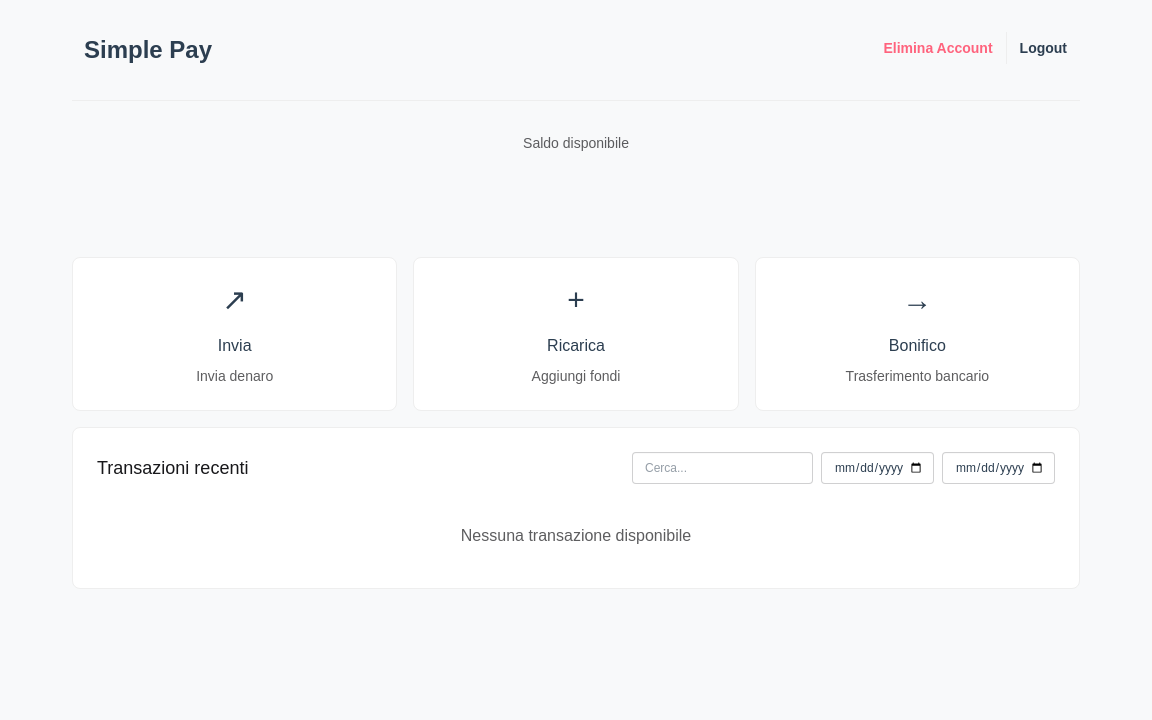
Transfer Modal › should validate IBAN length
Click the text "Trasferimento bancario".
click(918, 376)  # box x1=846 y1=368 x2=989 y2=384
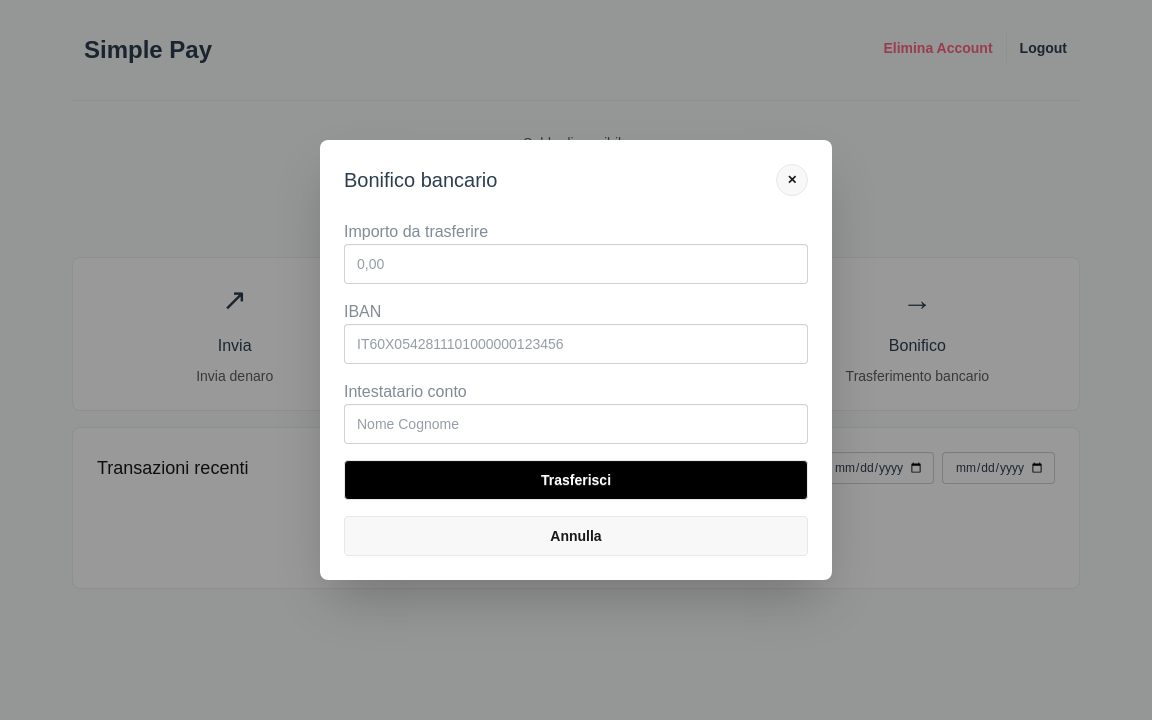
Check: the dialog with id "transferModal" is shown
Type "IT60X0542811101000000111111TOOLONGFORIBAN" into the field with id "transferIban".
click(576, 344); type("IT60X0542811101000000111111TOOLONGFORIBAN")  # box x1=344 y1=324 x2=808 y2=364
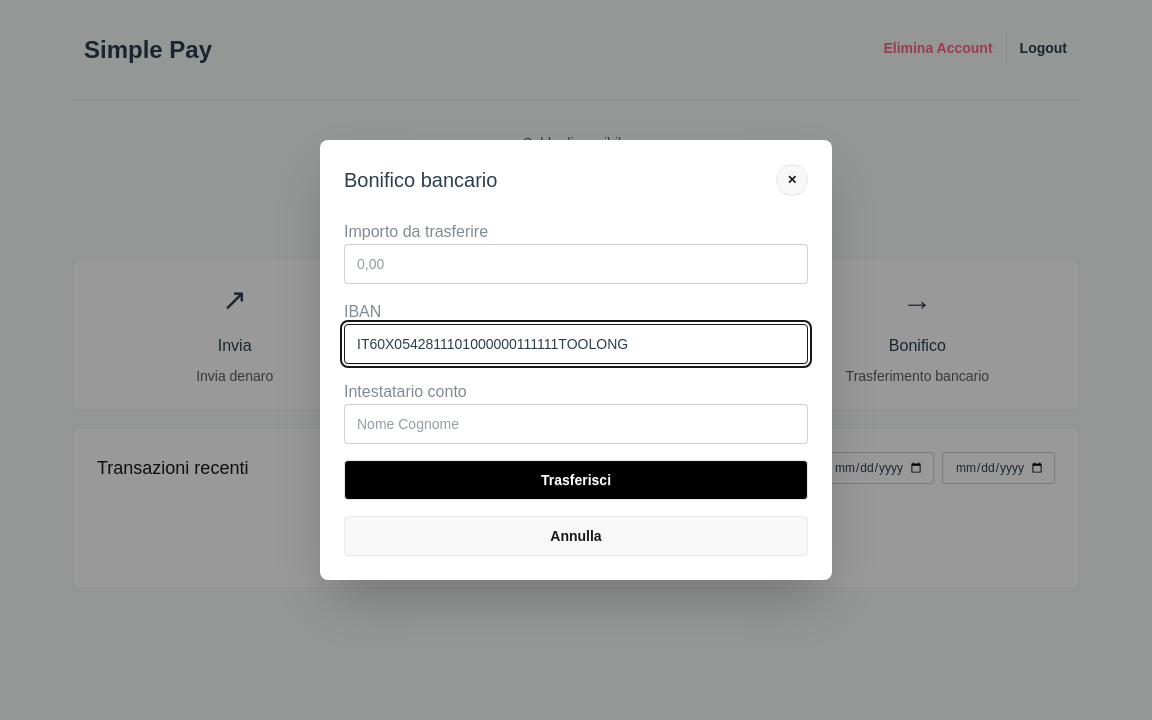
Check: the field with id "transferIban" holds "IT60X0542811101000000111111TOOLONG", box x1=344 y1=324 x2=808 y2=364
